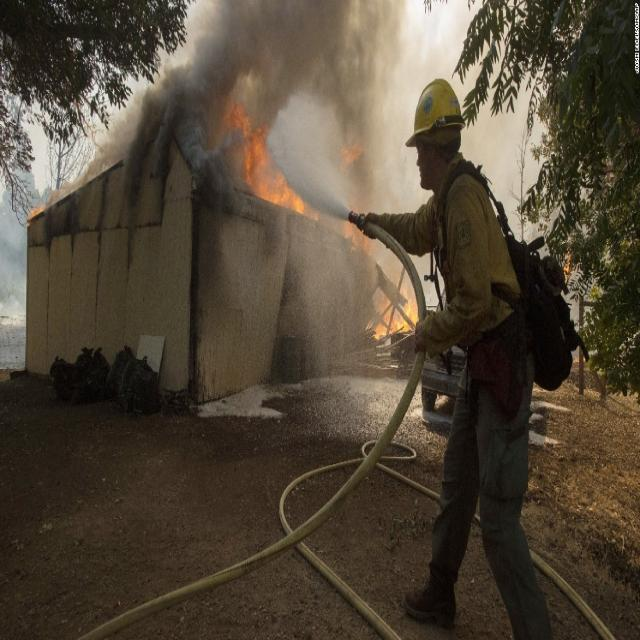Fire: (236, 107, 306, 215), (373, 283, 419, 341)
Smoke: (28, 0, 419, 224)
